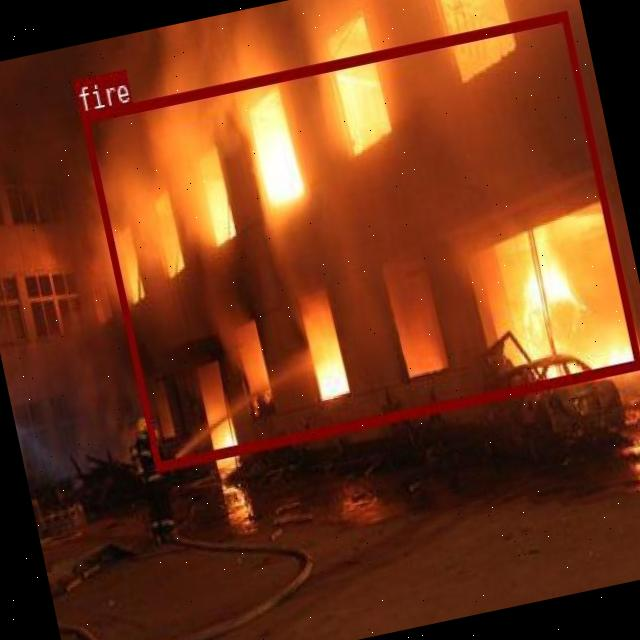fire: (78, 10, 640, 469)
